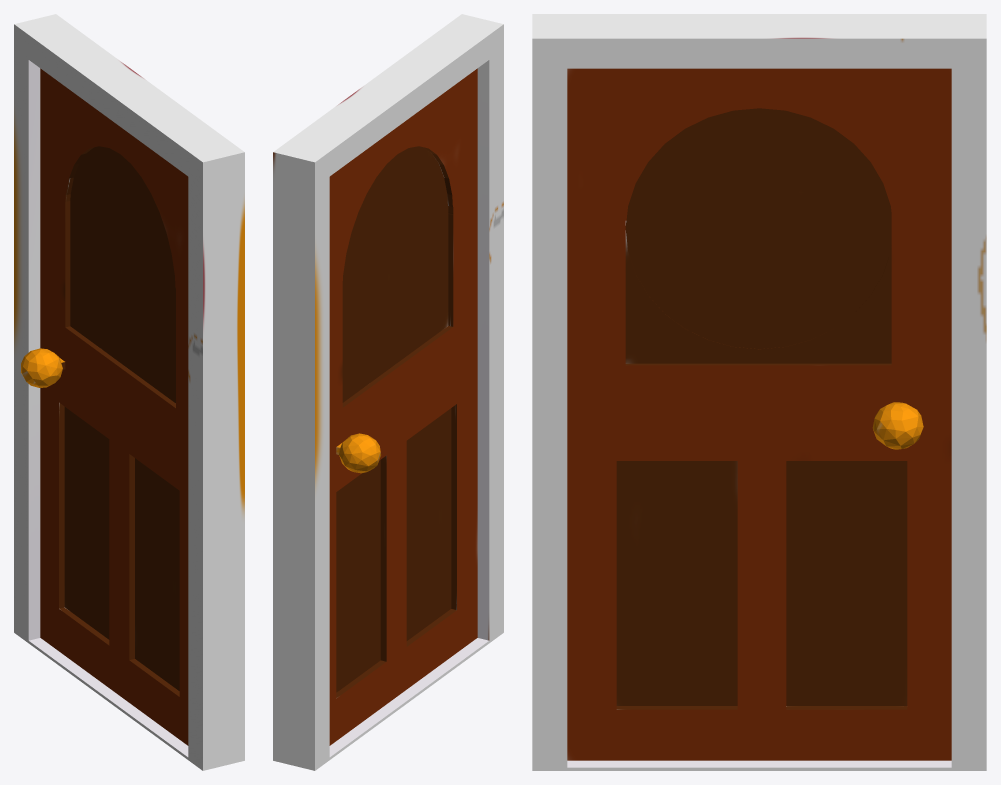
File: Door.fbx
3 renders of one model, left to right at view 1: azimuth 30°, elevation 25°; view 2: azimuth 150°, elevation 25°; view 3: azimuth 270°, elevation 25°, orthographic. The views are drawn at different scales.
Parts seen in each view (by area): view 1: Cube, Cube.001; view 2: Cube, Cube.001; view 3: Cube, Cube.001.
Boxes of the visible parts, box(x1,y1,x2,y2) form: Cube: box(21, 68, 188, 745); Cube.001: box(14, 14, 244, 770); Cube: box(329, 68, 477, 745); Cube.001: box(273, 14, 503, 770); Cube: box(567, 68, 951, 760); Cube.001: box(532, 14, 986, 770).
Bounding box in the file's own units: 73.07 × 421 × 237.
Materials: 1 (1 with a texture image).
